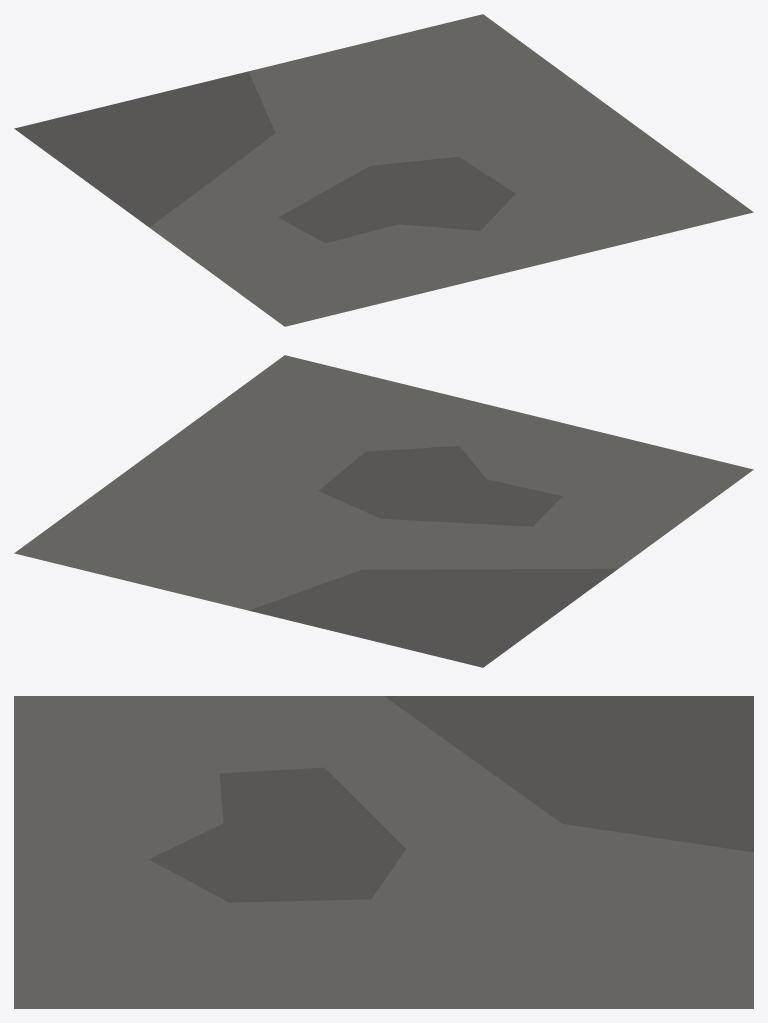
File: AI_Env_Floor_01_Stained_05.fbx
The picture shows the model from 3 angles, top to bottom: view 1: azimuth 30°, elevation 25°; view 2: azimuth 150°, elevation 25°; view 3: azimuth 270°, elevation 25°; orthographic projection. The views are drawn at different scales.
Visible parts, largest first — view 1: AI_Env_Floor_01_Stained_05; view 2: AI_Env_Floor_01_Stained_05; view 3: AI_Env_Floor_01_Stained_05.
Boxes of the visible parts, x1=… form: AI_Env_Floor_01_Stained_05: x1=14, y1=14, x2=753, y2=326; AI_Env_Floor_01_Stained_05: x1=14, y1=355, x2=753, y2=667; AI_Env_Floor_01_Stained_05: x1=14, y1=696, x2=753, y2=1008.
Bounding box in the file's own units: 5 × 0 × 5.
